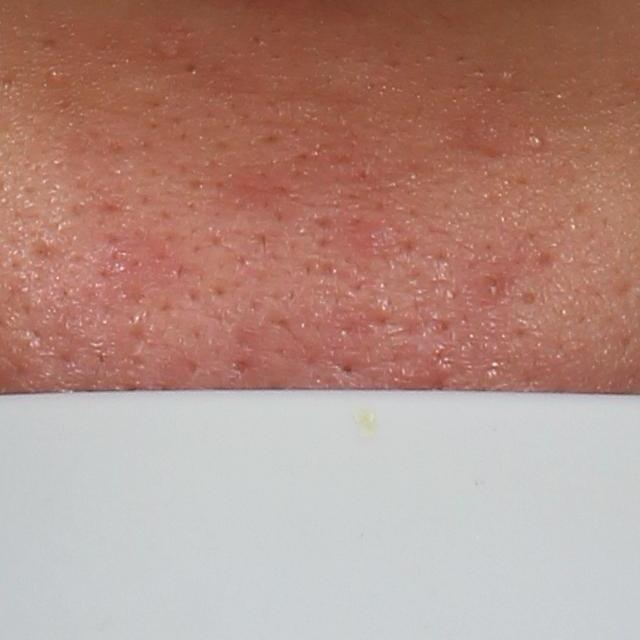atrophic_scar: (24, 240, 68, 268)
comedo: (515, 287, 542, 311)
pustule: (521, 126, 551, 155)
